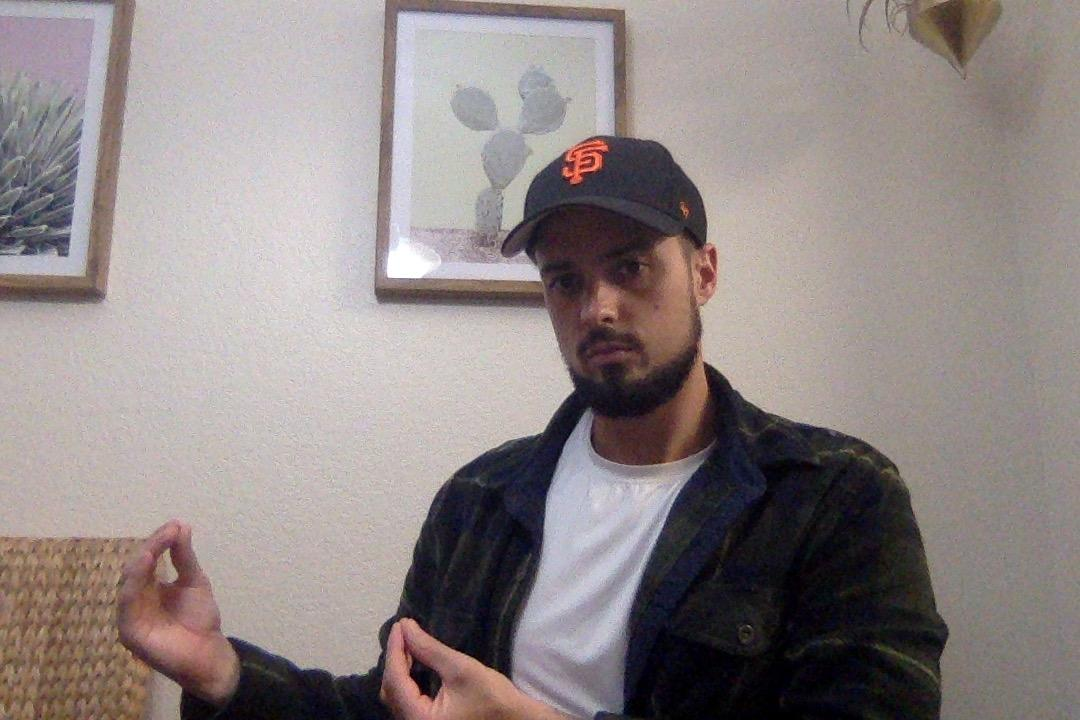Italian-Gesture: (115, 517, 238, 691), (358, 610, 550, 720)
